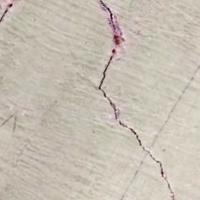crack: (91, 2, 176, 199)
